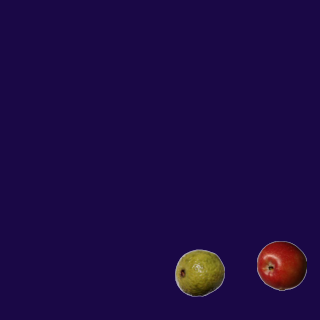Apple Braeburn: (256, 240, 306, 290)
Guava: (174, 247, 224, 297)
